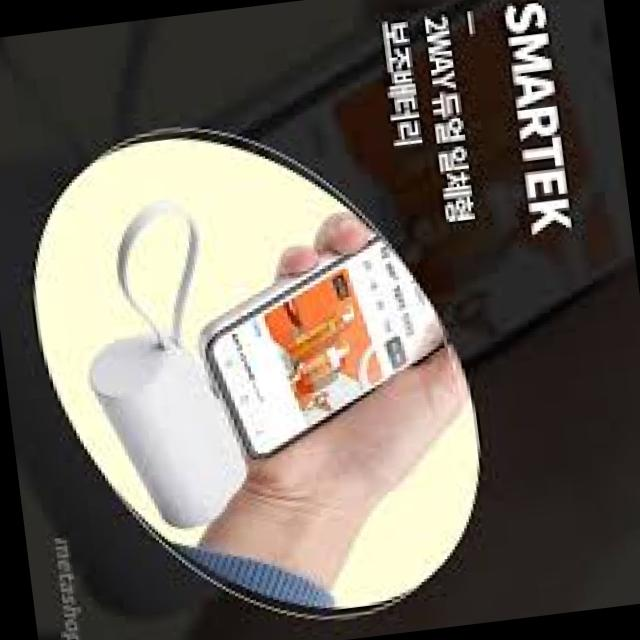power_bank: (87, 330, 248, 542)
